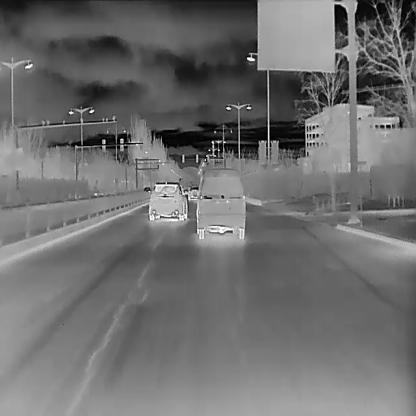car: (191, 166, 245, 239), (147, 180, 188, 220), (186, 185, 200, 200), (142, 185, 151, 193)
